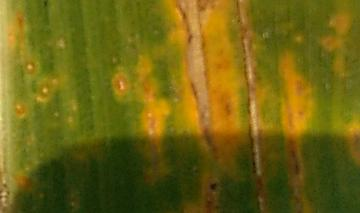tarspot: (207, 179, 221, 193)
